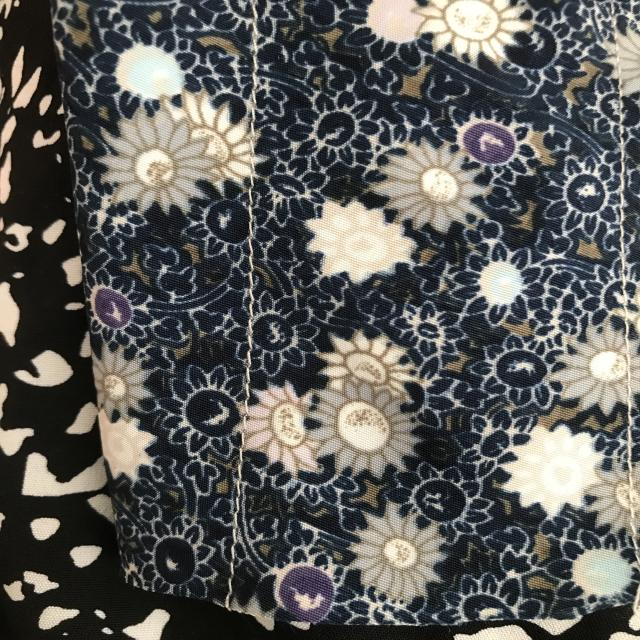good: (240, 235, 272, 362)
